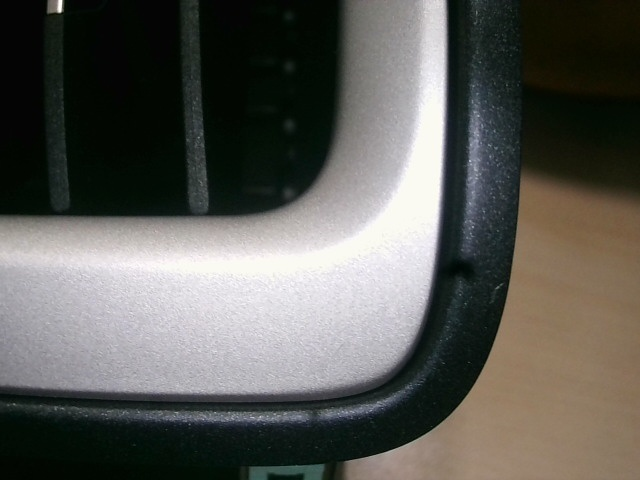NG: (489, 278, 506, 307), (324, 341, 348, 361)
